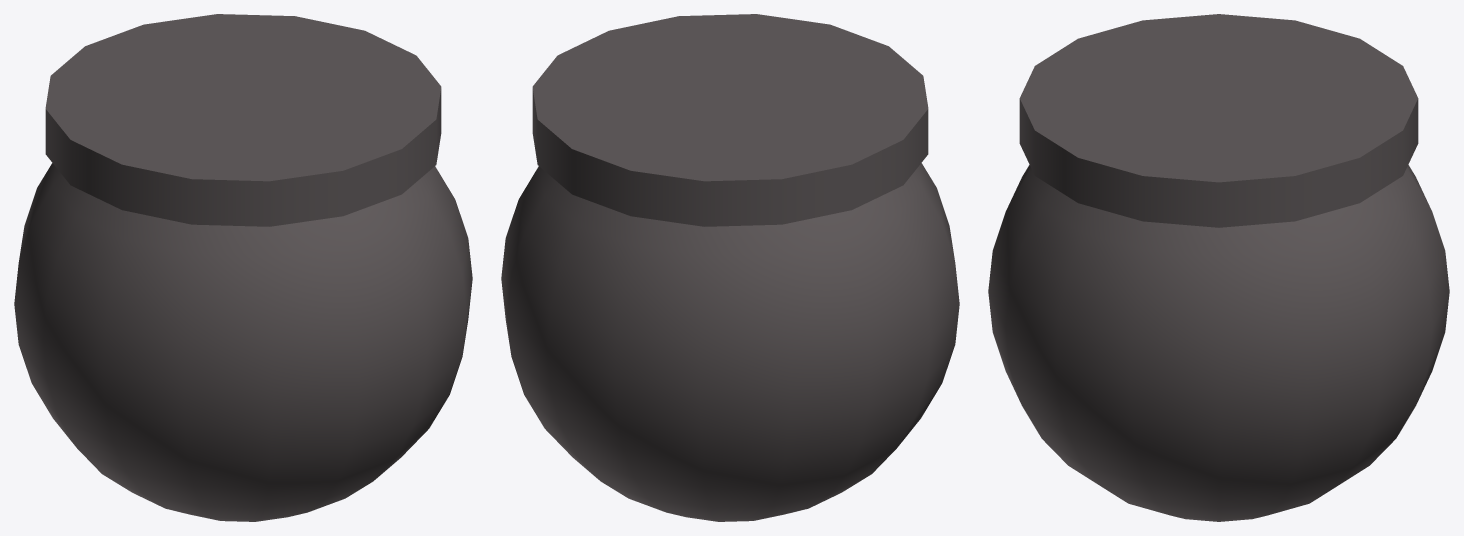
File: bottom piece lamp.fbx
3 views of the same model, side by side, from view 1: azimuth 30°, elevation 25°; view 2: azimuth 150°, elevation 25°; view 3: azimuth 270°, elevation 25° (orthographic).
Parts seen in each view (by area): view 1: ondergrond; view 2: ondergrond; view 3: ondergrond.
Part boxes in pixels (x1=…): ondergrond: x1=14, y1=14, x2=472, y2=521; ondergrond: x1=501, y1=14, x2=959, y2=521; ondergrond: x1=988, y1=14, x2=1449, y2=521.
Size of the model in its own units: 2 by 1.92 by 2.
